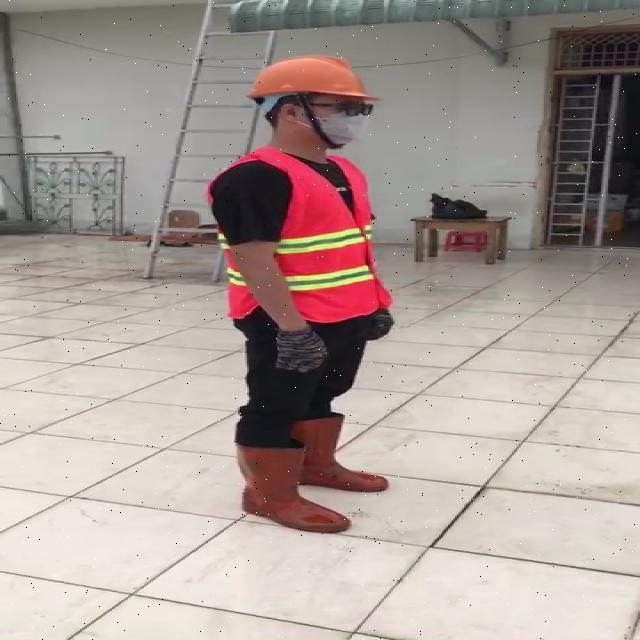Hard_hat: (242, 50, 385, 116)
Person: (195, 43, 406, 547)
Vest: (211, 145, 386, 329)
